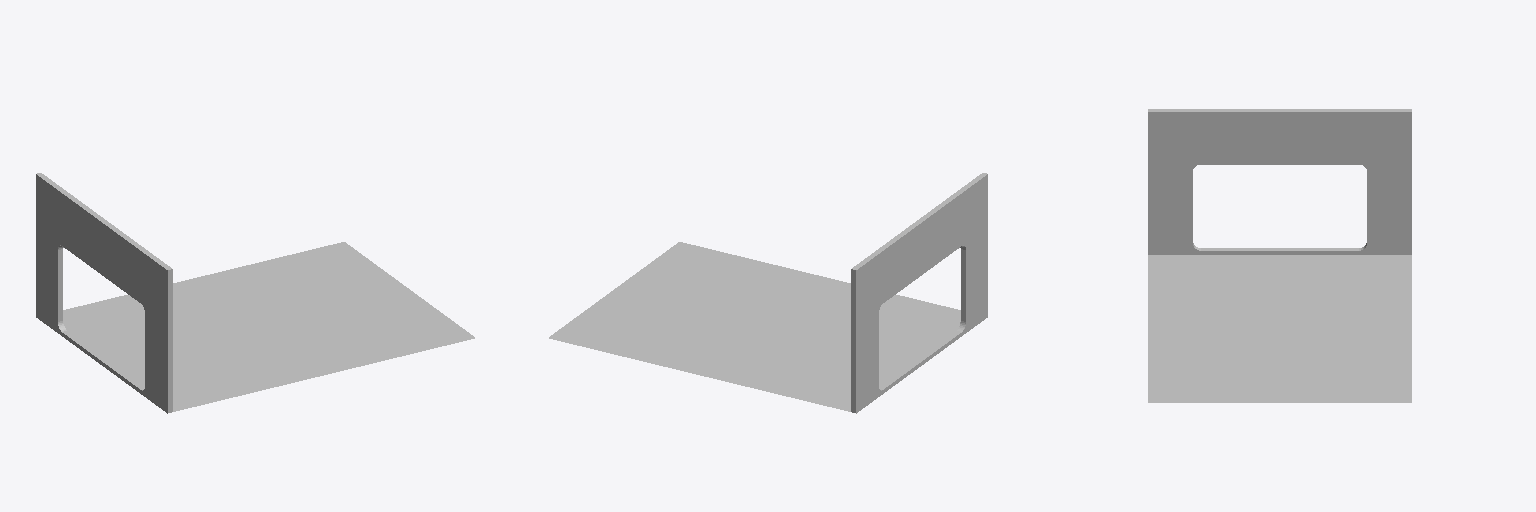
The model's file is Portal.obj.
3 renders of one model, left to right at view 1: azimuth 30°, elevation 25°; view 2: azimuth 150°, elevation 25°; view 3: azimuth 270°, elevation 25°, orthographic.
Parts seen in each view (by area): view 1: SketchUp.003_ID37; view 2: SketchUp.003_ID37; view 3: SketchUp.003_ID37.
Boxes of the visible parts, box(x1,y1,x2,y2) form: SketchUp.003_ID37: box(36, 173, 474, 413); SketchUp.003_ID37: box(549, 173, 987, 413); SketchUp.003_ID37: box(1148, 109, 1411, 402).
Size of the model in its own units: 53.87 by 23.86 by 39.87.